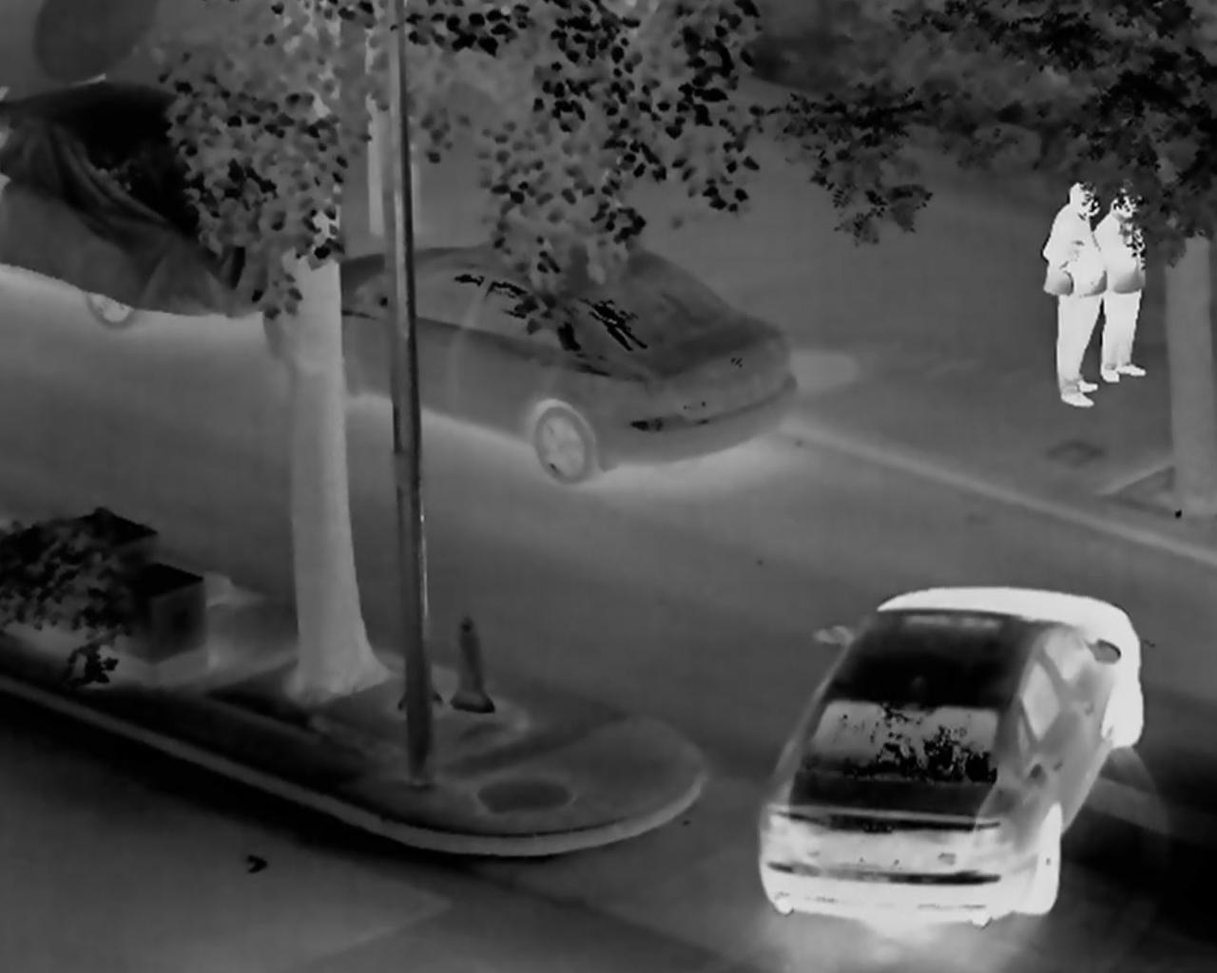person: (1036, 184, 1098, 409), (1087, 181, 1149, 381)
